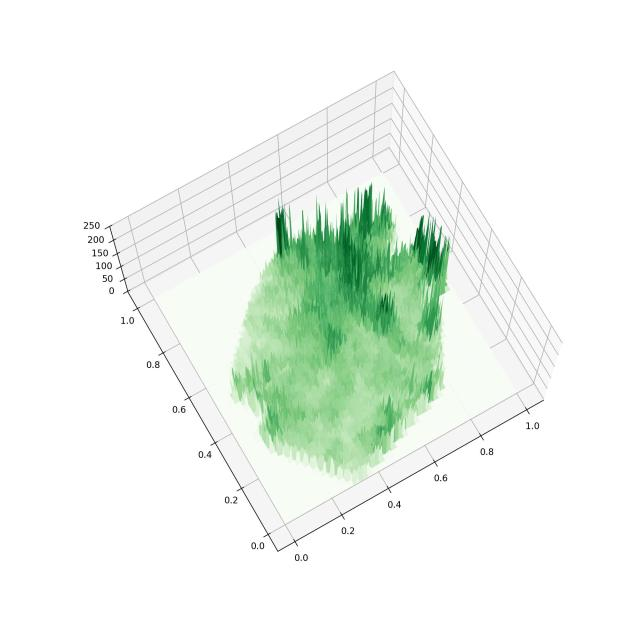spruce: (58, 56, 595, 580)
